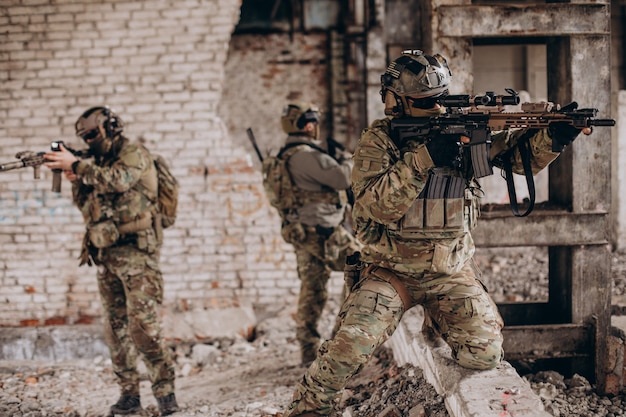gun: (383, 86, 618, 181), (2, 141, 98, 196)
